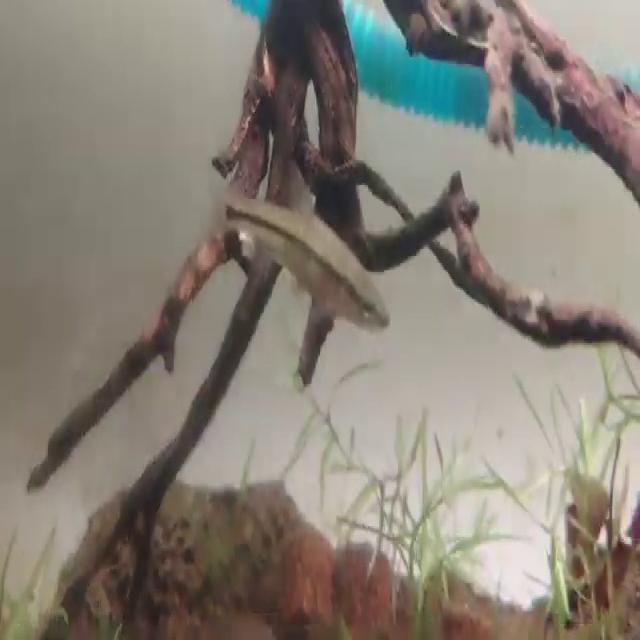Cakil Baligi: (217, 157, 390, 328)
